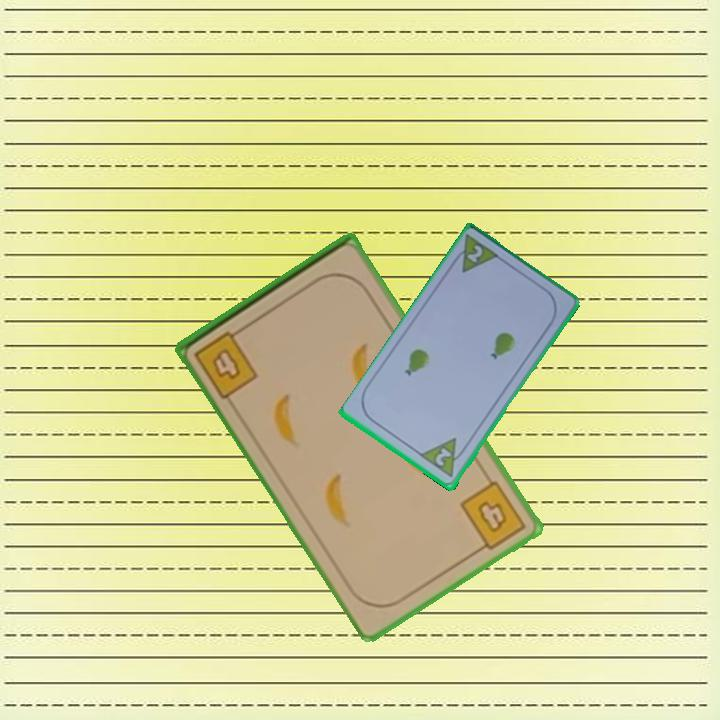2p: (447, 232, 503, 277), (417, 434, 470, 481)
4b: (456, 477, 529, 556), (191, 323, 261, 402)
